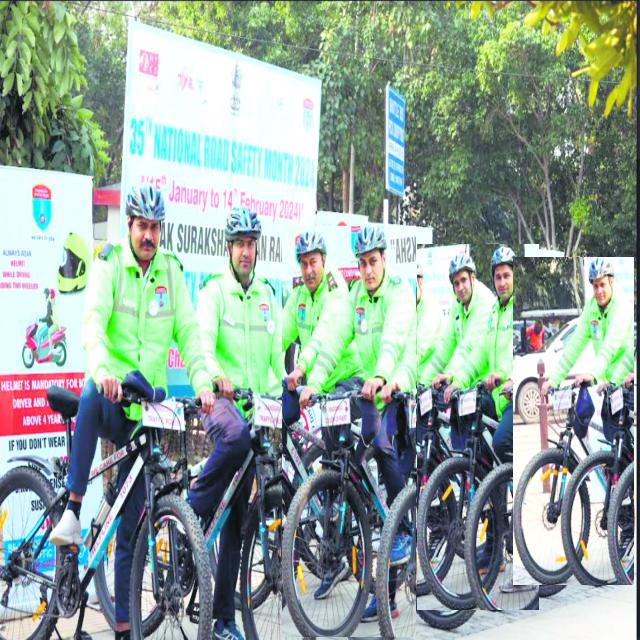bicycle: (0, 184, 216, 640), (189, 207, 321, 640), (351, 233, 492, 629), (282, 226, 416, 637), (418, 245, 539, 610), (462, 251, 586, 596), (514, 257, 634, 585)
